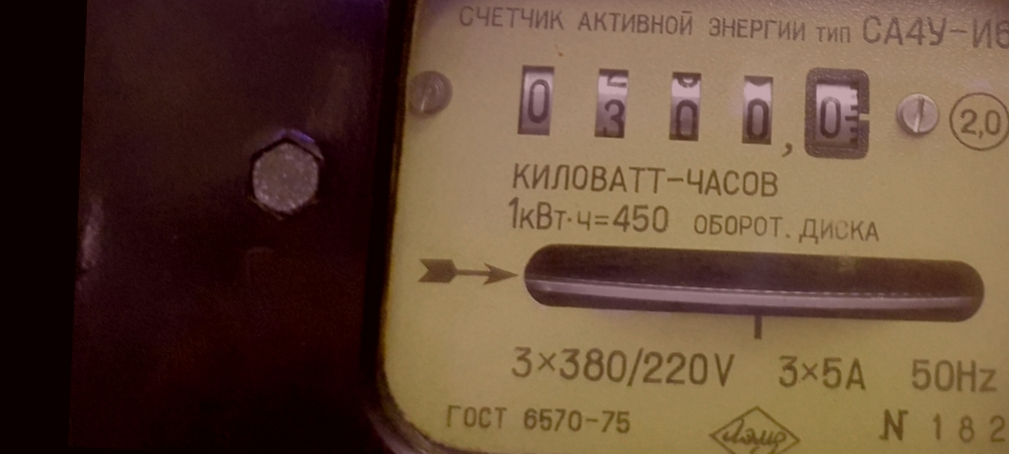0: (815, 94, 845, 144), (741, 97, 772, 144), (524, 75, 552, 127), (670, 96, 699, 145)
3: (598, 96, 628, 140)
screen: (496, 48, 881, 170)
